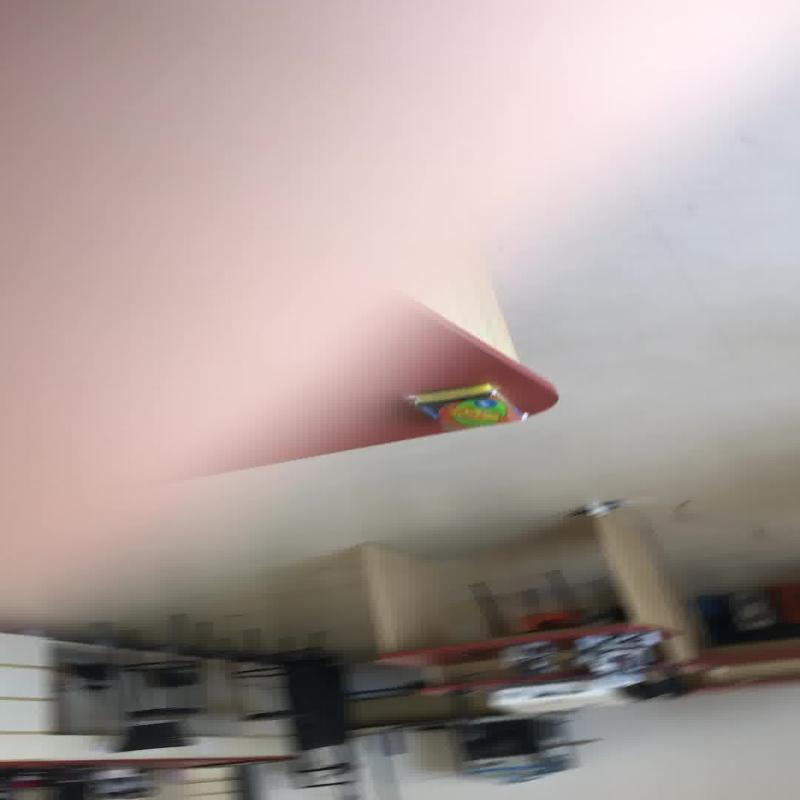sponge: (405, 381, 525, 430), (436, 394, 520, 428)
